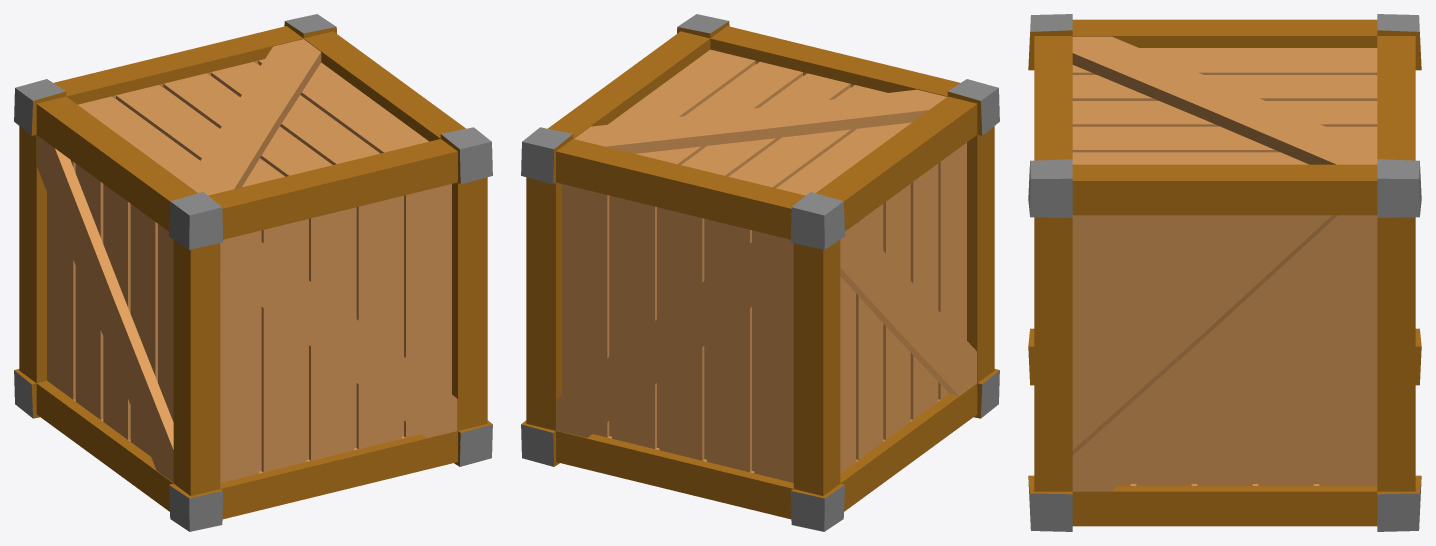
Rendered from crate2.fbx.
The picture shows the model from 3 angles, left to right: view 1: azimuth 30°, elevation 25°; view 2: azimuth 150°, elevation 25°; view 3: azimuth 270°, elevation 25°; orthographic projection. The views are drawn at different scales.
Parts seen in each view (by area): view 1: Cube, Cube.001, Cube.010, Cube.002, Cube.009; view 2: Cube, Cube.001, Cube.010, Cube.009, Cube.002; view 3: Cube.001, Cube, Cube.002, Cube.009.
Part boxes in pixels (box(x1,y1,x2,y2)): Cube: box(14, 14, 492, 531); Cube.001: box(47, 59, 451, 482); Cube.010: box(220, 233, 457, 437); Cube.002: box(37, 135, 173, 482); Cube.009: box(186, 39, 321, 195); Cube: box(521, 14, 999, 531); Cube.001: box(562, 49, 966, 482); Cube.010: box(556, 233, 793, 437); Cube.009: box(574, 89, 946, 153); Cube.002: box(840, 222, 976, 395); Cube.001: box(1072, 48, 1377, 485); Cube: box(1028, 14, 1421, 531); Cube.002: box(1072, 215, 1377, 491); Cube.009: box(1072, 36, 1377, 164).
Size of the model in its own units: 310 by 310 by 310.
